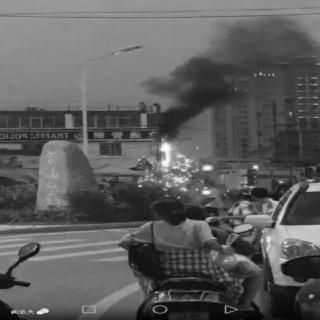Fire: (147, 134, 189, 184)
Smoke: (168, 37, 268, 129), (284, 26, 308, 64)
other: (200, 161, 226, 173), (248, 162, 268, 172)
